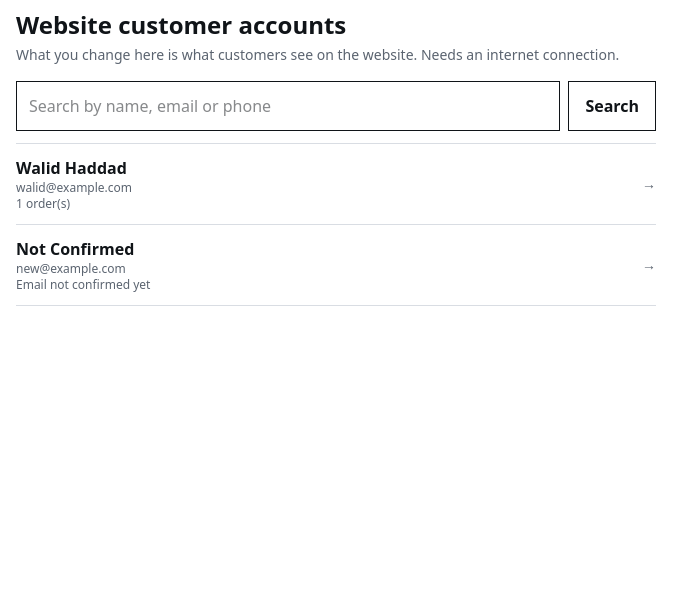
it: the website accounts screen › explains a refused merge in plain words
The image size is (673, 606).
Step 1. Click the button "Walid Haddad walid@example.com 1 order(s) ←" → x=71, y=168, box [16, 144, 656, 224]
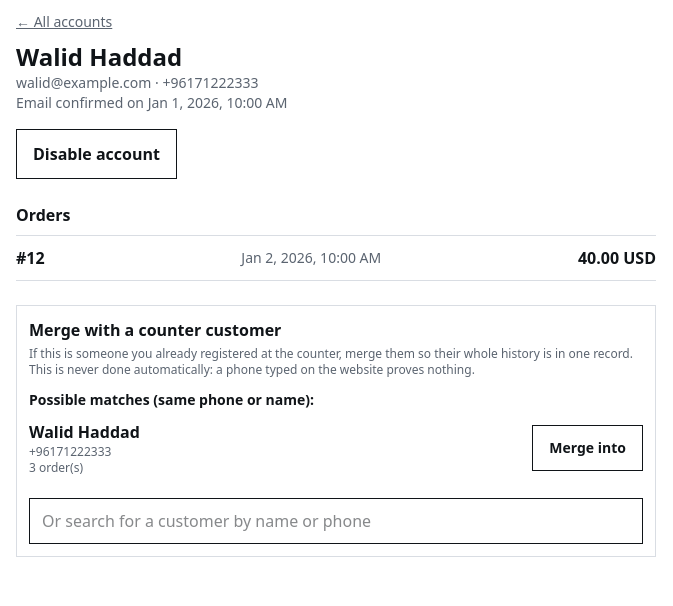
Step 2. Click the button "Merge into" → x=588, y=448, box [532, 425, 643, 471]
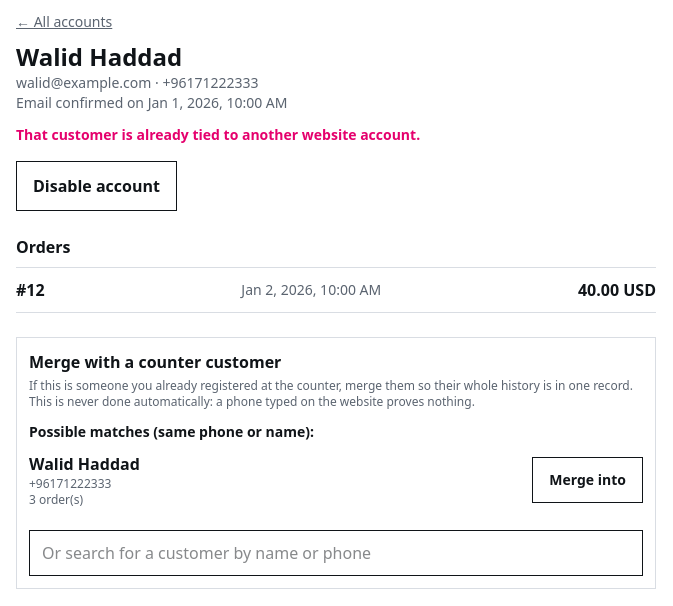
Now the message reads "That customer is already tied to another website account.", box [16, 125, 420, 144]
